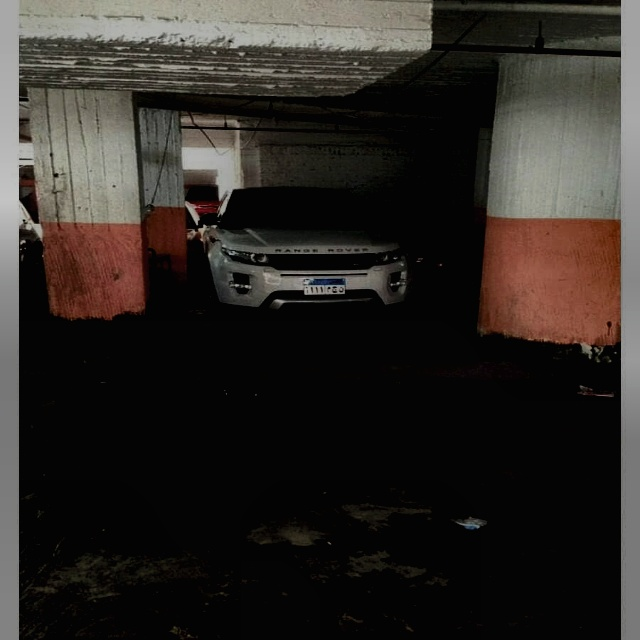License Plate: (302, 276, 348, 297)
